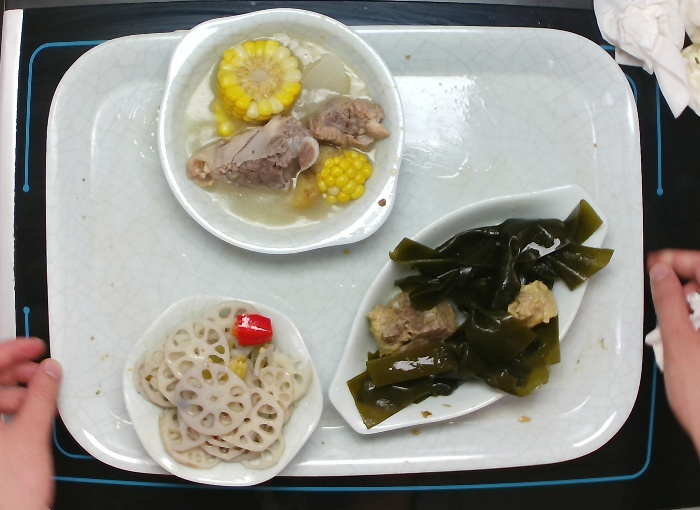JYsf-Shuang_Er_Wan: (152, 3, 408, 259)
JYsf-Yu_Pan: (324, 180, 612, 438)
WCQzf-Hua_Duo_Wan: (118, 292, 326, 489)
